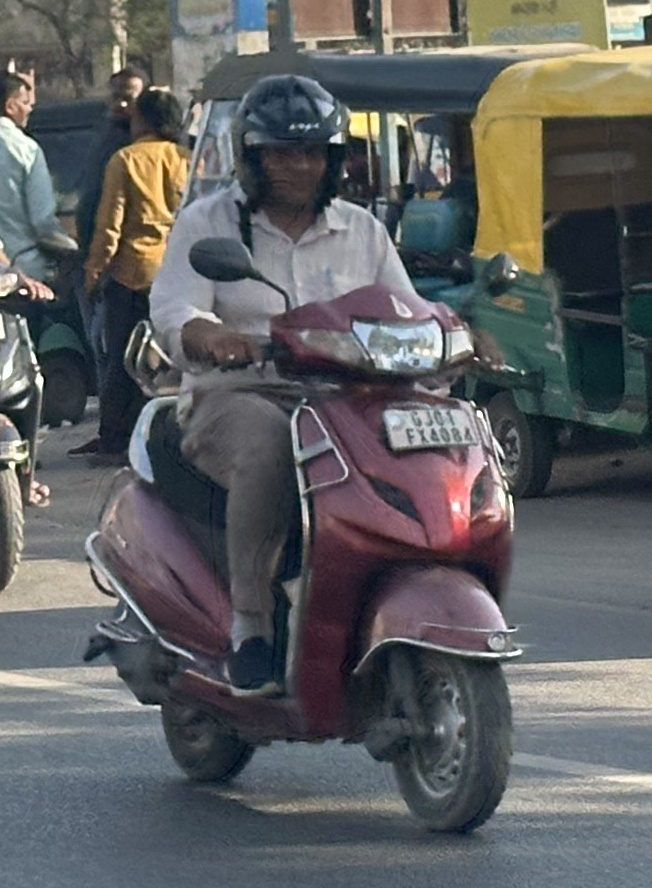BikeWithRider: (72, 64, 537, 843)
Helmet: (218, 68, 359, 221)
